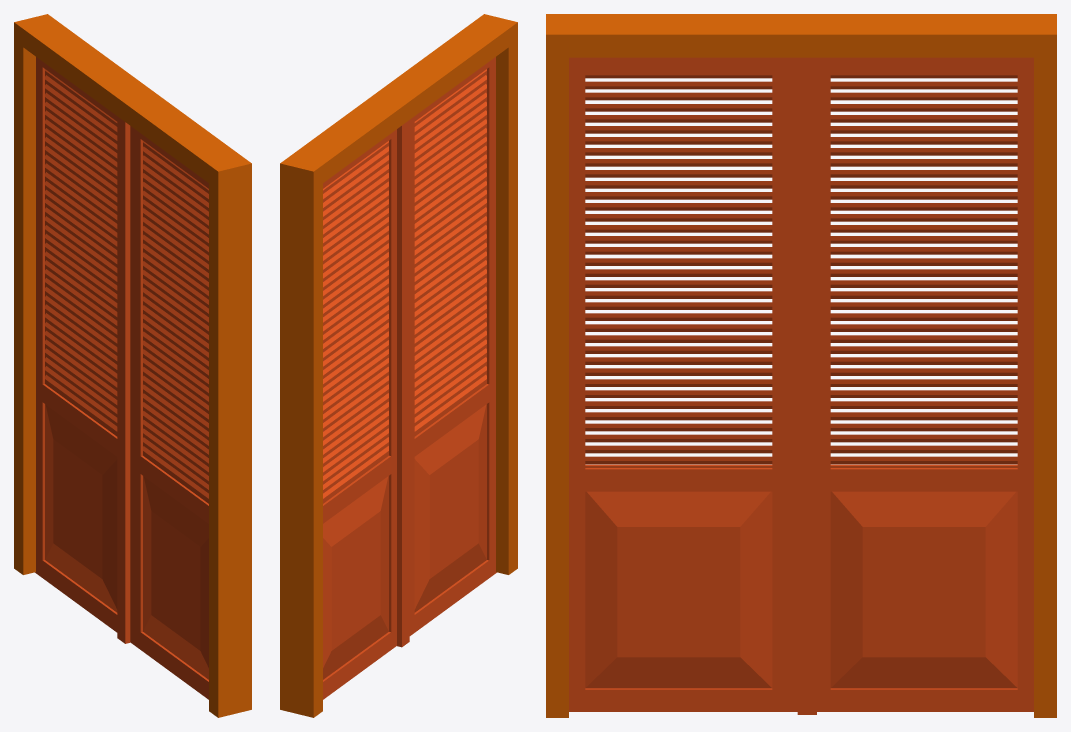
The model's file is Pintu Utama.fbx.
3 renders of one model, left to right at view 1: azimuth 30°, elevation 25°; view 2: azimuth 150°, elevation 25°; view 3: azimuth 270°, elevation 25°, orthographic. The views are drawn at different scales.
Parts seen in each view (by area): view 1: Cube.008, Cube, Cube.048, Cube.036, Cube.001; view 2: Cube.008, Cube, Cube.036, Cube.048, Cube.001; view 3: Cube, Cube.036, Cube.048, Cube.008, Cube.001.
Part boxes in pixels (x1,y1,x2,y2): Cube.008: (14,14,251,717); Cube: (35,57,208,699); Cube.048: (45,69,117,434); Cube.036: (143,141,208,502); Cube.001: (117,116,130,643); Cube.008: (280,14,517,717); Cube: (323,57,496,699); Cube.036: (414,69,486,434); Cube.048: (323,141,388,502); Cube.001: (397,120,409,647); Cube: (569,57,1033,711); Cube.036: (585,72,772,464); Cube.048: (830,72,1017,464); Cube.008: (546,14,1056,717); Cube.001: (797,57,816,714).
Size of the model in its own units: 20 by 311 by 210.
